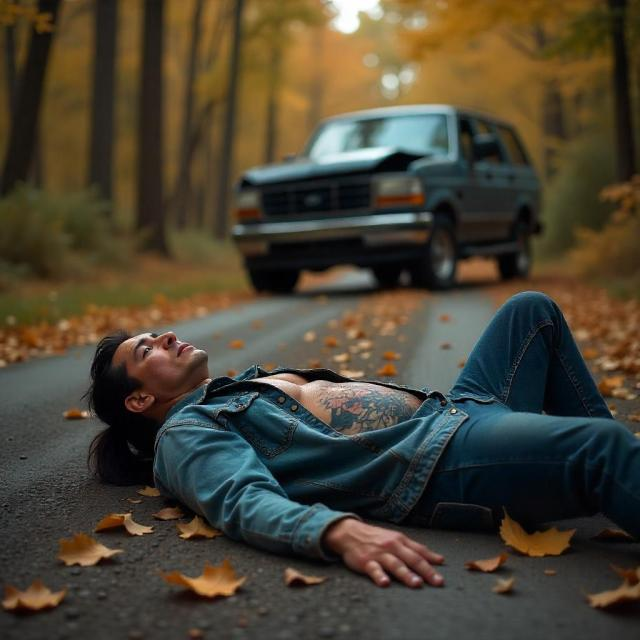injury: (86, 331, 209, 471)
no injury: (86, 292, 639, 588)
